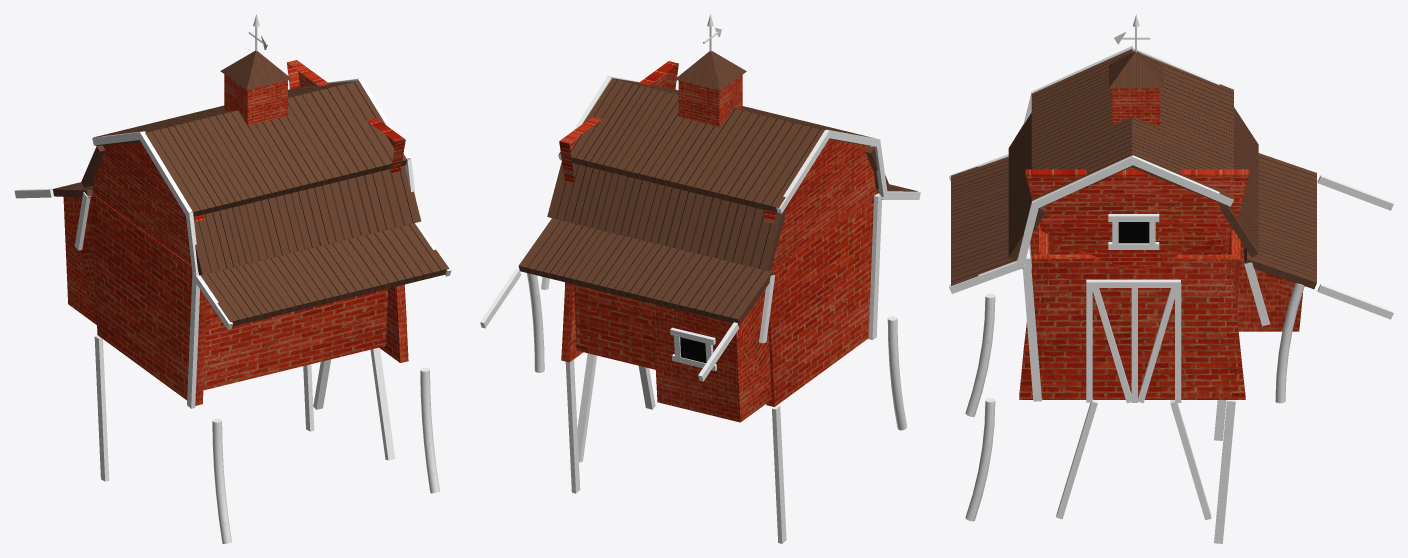
The model's file is 新倉庫.FBX.
3 renders of one model, left to right at view 1: azimuth 30°, elevation 25°; view 2: azimuth 150°, elevation 25°; view 3: azimuth 270°, elevation 25°, orthographic. The views are drawn at different scales.
Parts seen in each view (by area): view 1: Box006, Box001, Box008, Box011, Box005, Line001, Box031, Box037, Pyramid001, Box002, Box007, Line002 (+8 smaller); view 2: Box007, Box001, Box010, Box009, Box031, Line001, Box004, Box037, Pyramid001, Line002, Box032, Box033 (+11 smaller); view 3: Box002, Line002, Box006, Box007, Box010, Box011, Box031, Box009, Box008, Pyramid001, Box037, Box013 (+22 smaller).
Part boxes in pixels (box(x1,y1,x2,y2)): Box006: box(145, 81, 409, 216); Box001: box(91, 193, 207, 405); Box008: box(184, 165, 421, 275); Box011: box(200, 223, 449, 326); Box005: box(203, 288, 388, 390); Line001: box(92, 142, 204, 265); Box031: box(63, 197, 96, 324); Box037: box(224, 74, 287, 125); Pyramid001: box(220, 51, 291, 90); Box002: box(379, 284, 408, 362); Box007: box(94, 81, 355, 145); Line002: box(286, 60, 405, 173); Box007: box(559, 78, 829, 213); Box001: box(766, 193, 877, 406); Box010: box(518, 218, 773, 324); Box009: box(547, 161, 785, 271); Box031: box(652, 288, 771, 422); Line001: box(763, 139, 876, 270); Box004: box(574, 284, 655, 369); Box037: box(678, 75, 742, 126); Pyramid001: box(675, 51, 746, 90); Line002: box(559, 61, 678, 182); Box032: box(868, 193, 881, 339); Box033: box(772, 405, 786, 543); Box002: box(1019, 254, 1245, 399); Line002: box(1025, 169, 1249, 274); Box006: box(1031, 49, 1131, 207); Box007: box(1130, 49, 1233, 206); Box010: box(1244, 153, 1316, 289); Box011: box(951, 157, 1023, 285); Box031: box(1225, 232, 1302, 331); Box009: box(1219, 107, 1258, 257); Box008: box(1008, 112, 1046, 261); Pyramid001: box(1109, 51, 1163, 88); Box037: box(1112, 88, 1160, 125); Box013: box(1214, 400, 1235, 543).
Bounding box in the file's own units: 82.59 × 166 × 139.
6 materials, 5 textured.
